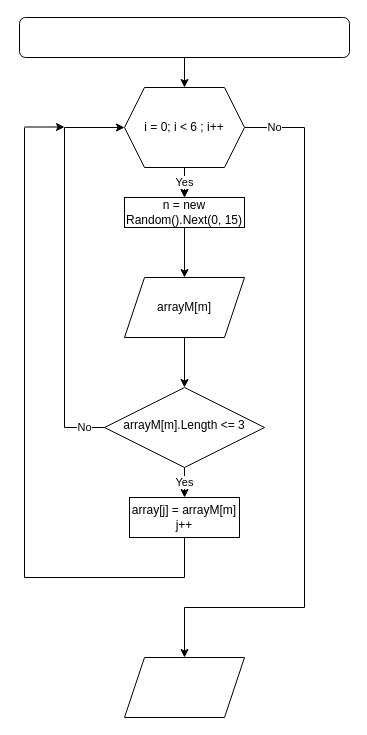
The diagram is 367 pixels wide and 735 high, and some of its shapes have lost their labels. Here are the shapes that lost their labels. From the top down, the centre of each, then its label:
the point at 184,37: arrayM = ["1", "12", "dec",...,"april"] array = [6] ; int m; j = 0;
the point at 184,687: array
